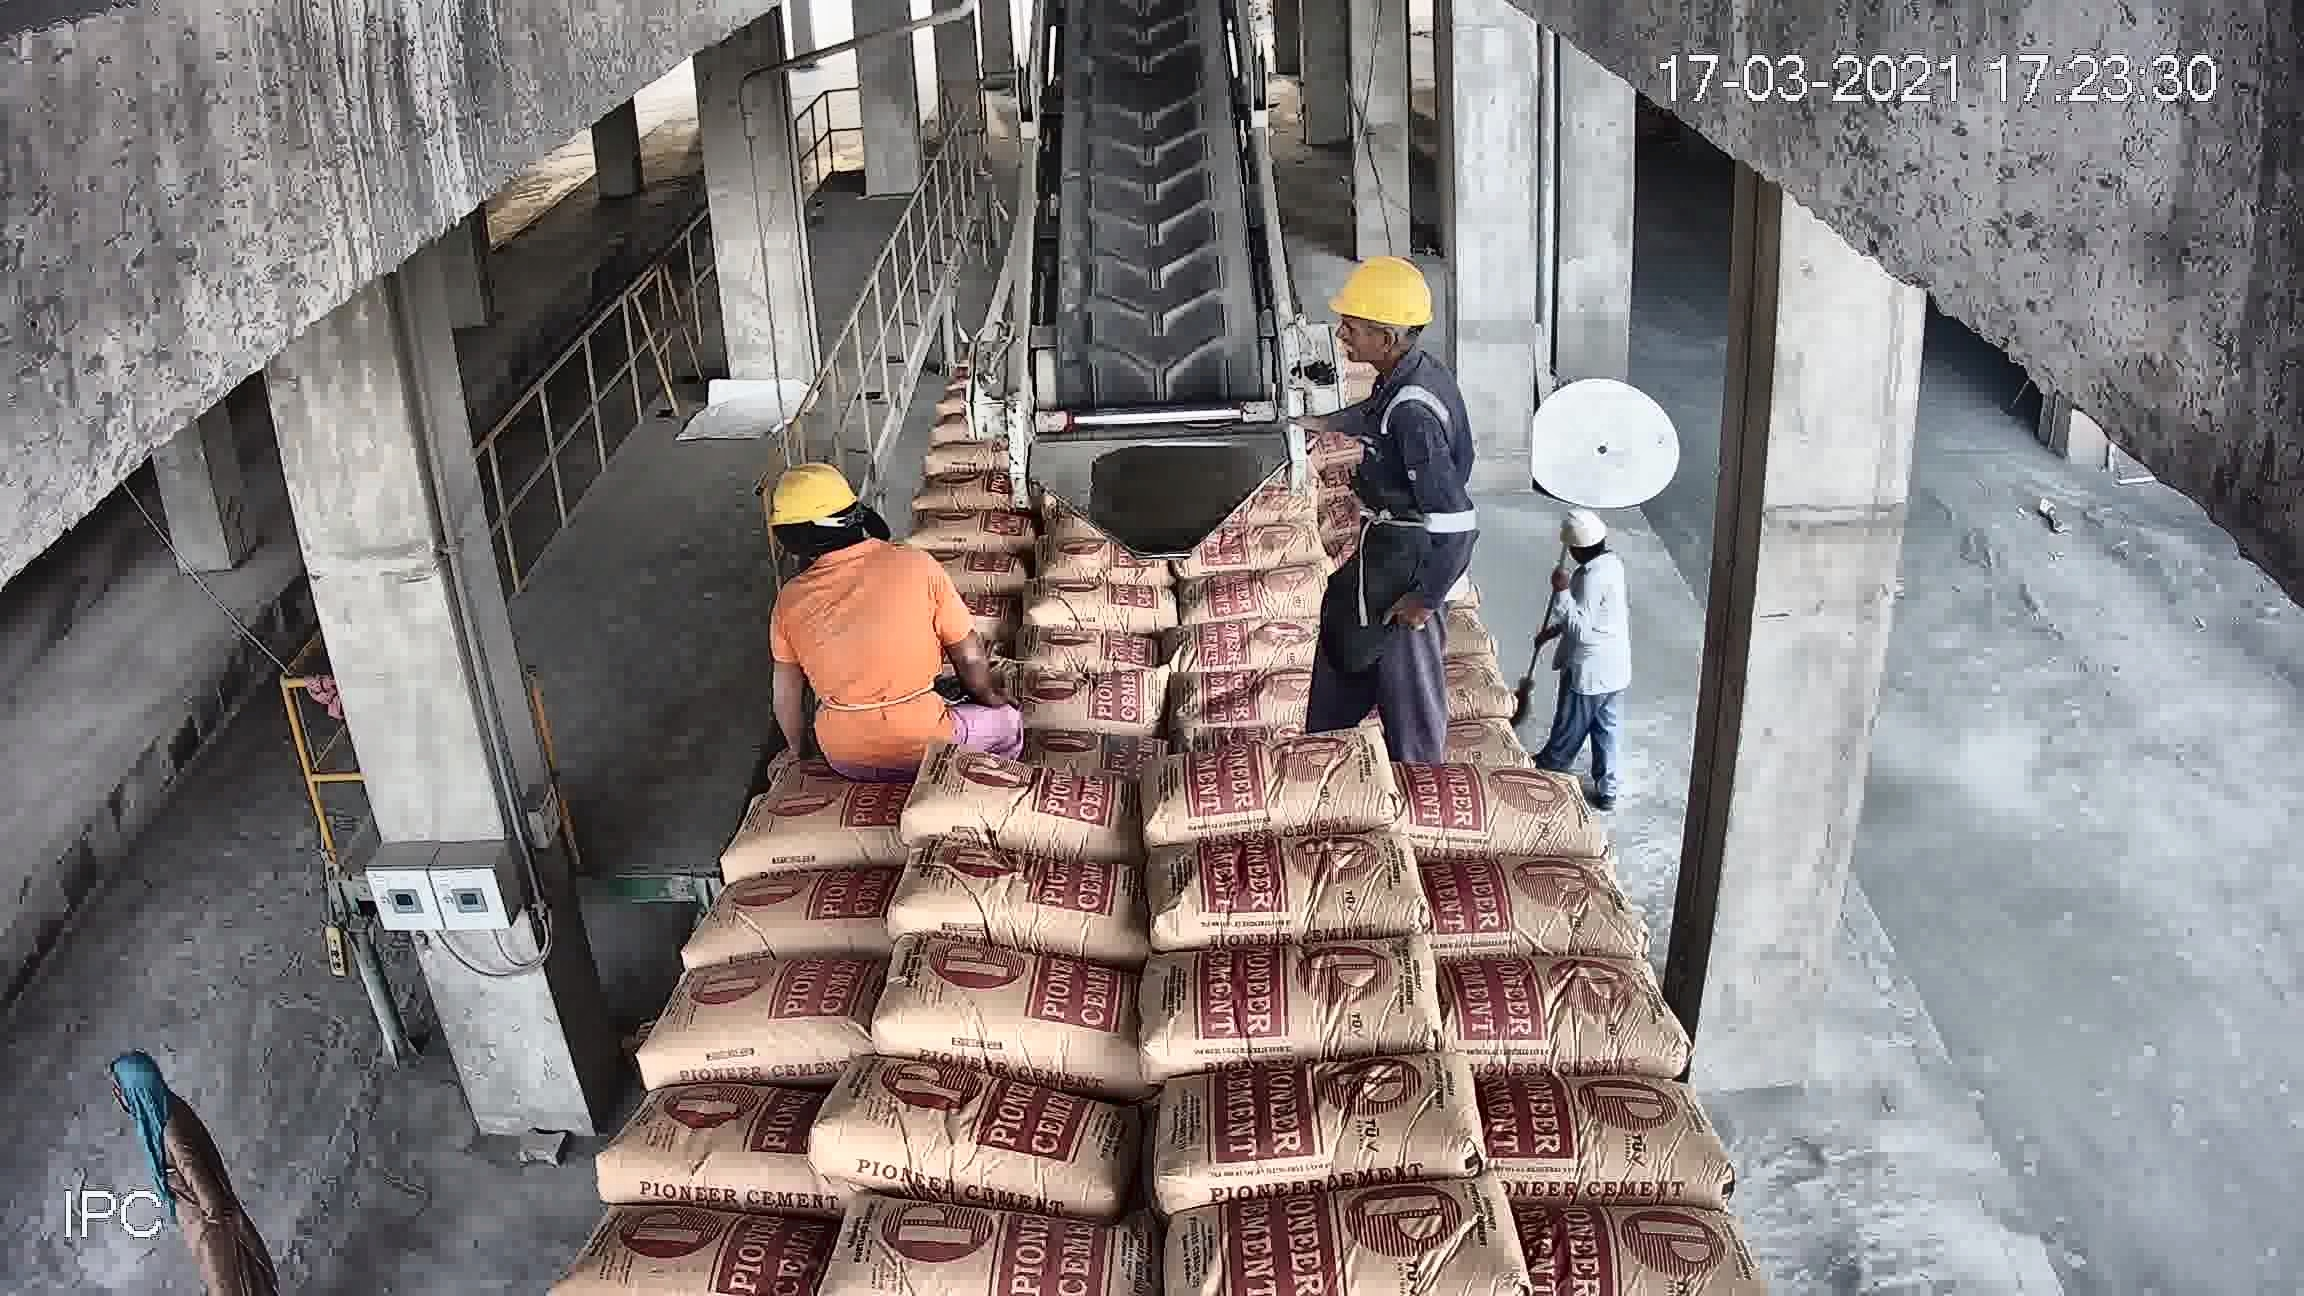bag: (1127, 377, 1313, 483), (1100, 70, 1207, 174)
bag_h: (1155, 1036, 1492, 1203), (1177, 1177, 1532, 1296), (1473, 1071, 1733, 1207), (1135, 946, 1480, 1048), (842, 1060, 1109, 1190), (1127, 649, 1385, 777), (1160, 831, 1438, 949), (885, 943, 1124, 1078), (1161, 560, 1396, 692), (658, 956, 904, 1081), (853, 853, 1157, 949), (597, 1071, 820, 1203), (1147, 729, 1385, 851), (1449, 961, 1662, 1071), (897, 753, 1152, 840), (570, 1184, 828, 1269), (820, 1230, 1146, 1296), (1374, 676, 1582, 771), (707, 858, 877, 972), (1445, 870, 1639, 964), (758, 695, 921, 798), (1492, 1214, 1742, 1279), (1158, 529, 1348, 611), (734, 790, 889, 888), (1389, 612, 1563, 696), (1408, 777, 1595, 855), (763, 636, 934, 718), (976, 606, 1158, 673), (957, 682, 1139, 745), (807, 574, 956, 644), (1389, 543, 1514, 616), (1320, 475, 1457, 540), (1313, 440, 1446, 498), (994, 560, 1146, 611), (1361, 516, 1487, 576), (1309, 411, 1424, 468), (1324, 372, 1419, 423), (923, 451, 1010, 502), (1070, 498, 1173, 541), (907, 503, 1005, 546), (1321, 343, 1402, 392), (877, 543, 972, 576)
belt: (1060, 16, 1250, 370)
